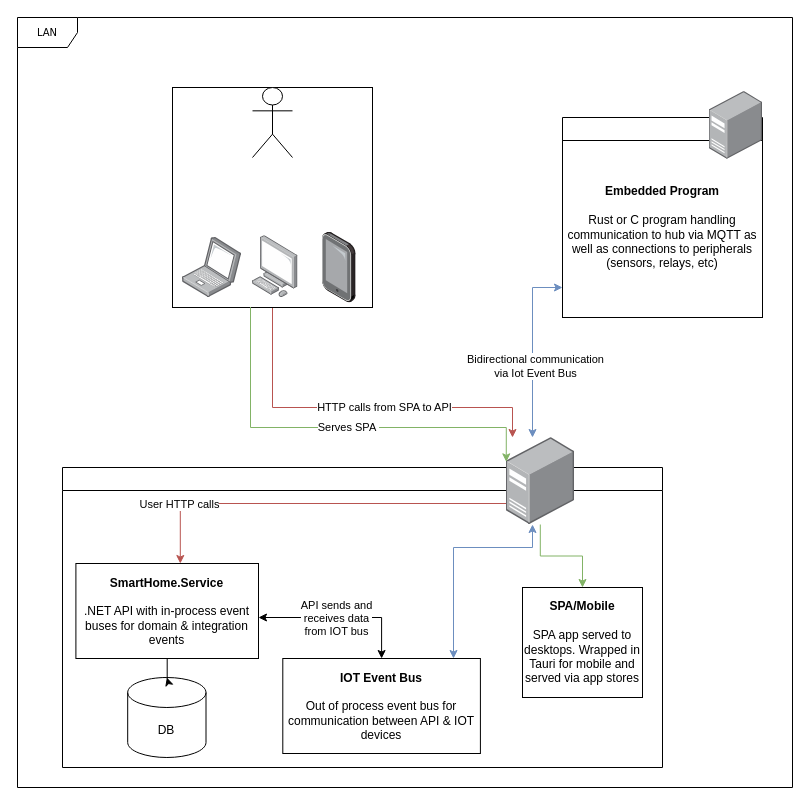
Some shapes in this 810 by 805 pixel diagram are drawn without their labels. Each missing label, with the box of its shape:
Smart Device: (562, 116, 762, 318)
SmartHome Hub: (62, 466, 662, 768)
User Accesses system via web app and/or mobile app: (252, 86, 292, 158)
